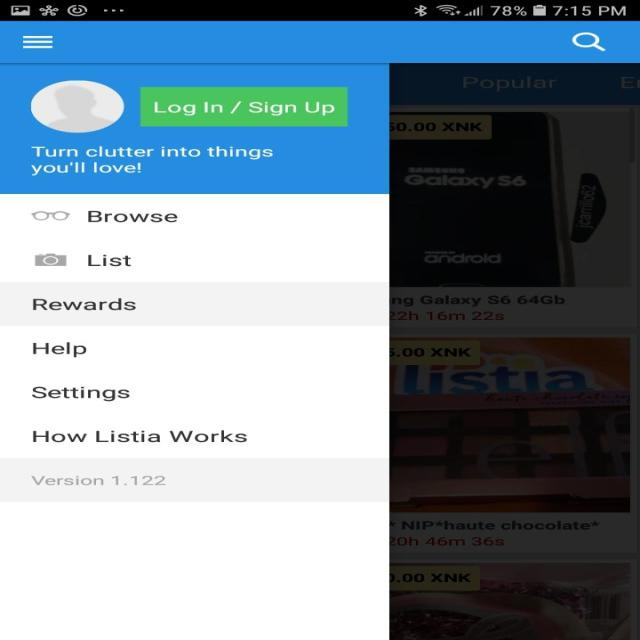Drawer: (0, 63, 389, 639)
Icon: (30, 80, 124, 133), (570, 32, 606, 51), (34, 253, 66, 266), (22, 36, 54, 49)
Image: (31, 210, 70, 220)
Text: (30, 145, 273, 176), (32, 429, 247, 442), (30, 475, 166, 486), (32, 386, 130, 401), (32, 298, 136, 311), (87, 210, 178, 222), (32, 341, 87, 358), (87, 254, 132, 267)
TextButton: (140, 86, 348, 126)
